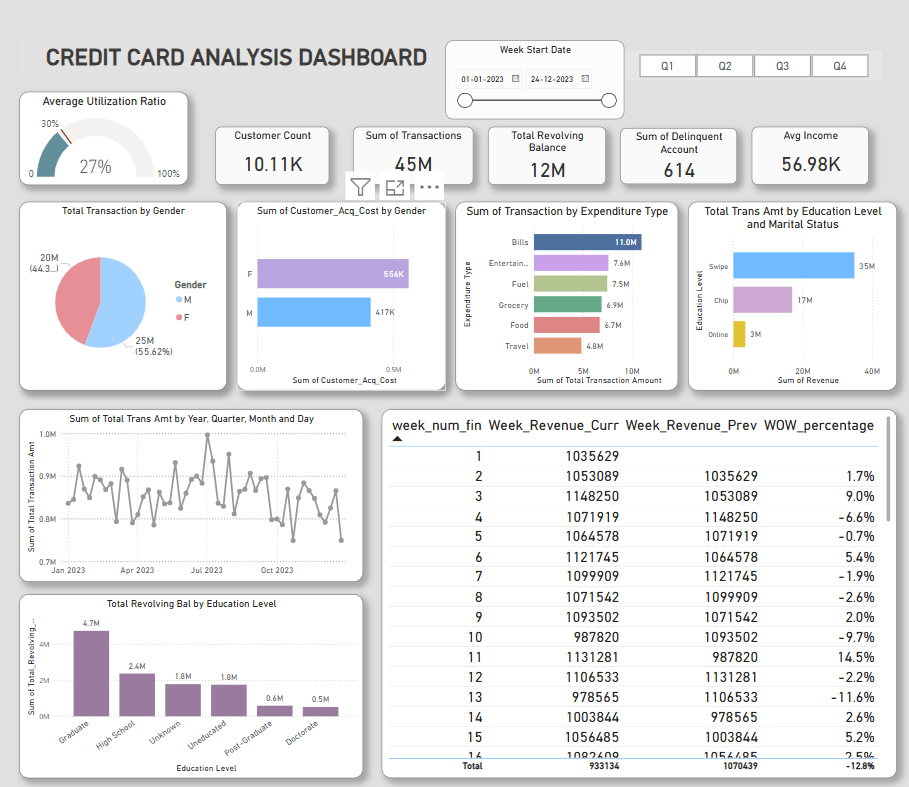

This screenshot's page, from the dashboard's own definition file:
{"tool":"powerbi","page":{"name":"Credit Card Analysis","canvas":[1550,1350],"ordinal":0},"visuals":[{"type":"pieChart","title":"Total Transaction by Gender","fields":{"Category":["ccdb cust_detail.Gender"],"Y":["Sum(ccdb cc_details.Total_Trans_Amt)"]},"box":[36,354,351.9,320.1],"z":0},{"type":"card","title":"Customer Count","fields":{"Values":["CountNonNull(ccdb cust_detail.Client_Num)"]},"box":[368.6,227.8,192.6,98.2],"z":1000},{"type":"card","title":"Sum of Transactions","fields":{"Values":["Sum(ccdb cc_details.Total_Trans_Amt)"]},"box":[602,227.8,203.8,98.2],"z":2000},{"type":"card","title":"Total Revolving Balance","fields":{"Values":["Sum(ccdb cc_details.Total_Revolving_Bal)"]},"box":[831.7,226,200.1,98.2],"z":3000},{"type":"card","title":"Sum of Delinquent Account","fields":{"Values":["Sum(ccdb cc_details.Delinquent_Acc)"]},"box":[1054.8,228.4,197.4,94.8],"z":4000},{"type":"slicer","fields":{"Values":["ccdb cc_details.Qtr"]},"box":[1062.6,96.8,437.4,50.3],"z":5000},{"type":"barChart","title":"Sum of Transaction by Expenditure Type","fields":{"Category":["ccdb cc_details.Exp_Type"],"Y":["Sum(ccdb cc_details.Total_Trans_Amt)"]},"box":[775.9,354,377.4,320.1],"z":6000},{"type":"columnChart","title":"Total Revolving Bal by Education Level","fields":{"Category":["ccdb cust_detail.Education_Level"],"Y":["Sum(ccdb cc_details.Total_Revolving_Bal)"]},"box":[36,1019.7,583,311.6],"z":7000},{"type":"clusteredBarChart","title":"Total Trans Amt by Education Level and Marital Status","fields":{"Category":["ccdb cc_details.Use_Chip"],"Y":["Sum(ccdb cc_details.Revenue)"]},"box":[1170.2,354,354,320.1],"z":8000},{"type":"lineChart","title":"Sum of Total Trans Amt by Year, Quarter, Month and Day","fields":{"Category":["ccdb cc_details.Week_Start_Date.Variation.Date Hierarchy.Year","ccdb cc_details.Week_Start_Date.Variation.Date Hierarchy.Quarter","ccdb cc_details.Week_Start_Date.Variation.Date Hierarchy.Month","ccdb cc_details.Week_Start_Date.Variation.Date Hierarchy.Day"],"Y":["Sum(ccdb cc_details.Total_Trans_Amt)"]},"box":[36,706,583,292.6],"z":9000},{"type":"textbox","box":[37,81.5,737.2,61.1],"z":10000},{"type":"gauge","title":"Average Utilization Ratio ","fields":{"Y":["Avg(ccdb cc_details.Avg_Utilization_Ratio)"],"MinValue":["ccdb cc_details.MinUtilization"],"MaxValue":["ccdb cc_details.MaxUtilization"],"TargetValue":["ccdb cc_details.TargetUtilization"]},"box":[36.8,168.4,286.5,158.7],"z":11000},{"type":"slicer","title":"Week Start Date","fields":{"Values":["ccdb cc_details.Week_Start_Date"]},"box":[759,80.6,303.2,133.6],"z":12000},{"type":"card","title":"Avg Income","fields":{"Values":["Avg(ccdb cust_detail.Income)"]},"box":[1278.1,226,198.2,98.2],"z":13000},{"type":"clusteredBarChart","fields":{"Category":["ccdb cust_detail.Gender"],"Y":["Sum(ccdb cc_details.Customer_Acq_Cost)"]},"box":[404.9,354,354,320.1],"z":14000},{"type":"tableEx","fields":{"Values":["ccdb cc_details.week_num_fin","ccdb cc_details.Week_Revenue","ccdb cc_details.Week_Revenue_Prev","ccdb cc_details.WOW_percentage"]},"box":[650.8,706,873.4,625.4],"z":15000}]}

Visuals, with their boxes in screenshot pixels (x1, y1, x2, y2), scaled from the page's 1550x1350 canvas onto the 909x787 screenshot:
"Total Transaction by Gender" pieChart: [21,206,227,393]
"Customer Count" card: [216,133,329,190]
"Sum of Transactions" card: [353,133,473,190]
"Total Revolving Balance" card: [488,132,605,189]
"Sum of Delinquent Account" card: [619,133,734,188]
slicer - ccdb cc_details.Qtr: [623,56,880,86]
"Sum of Transaction by Expenditure Type" barChart: [455,206,676,393]
"Total Revolving Bal by Education Level" columnChart: [21,594,363,776]
"Total Trans Amt by Education Level and Marital Status" clusteredBarChart: [686,206,894,393]
"Sum of Total Trans Amt by Year, Quarter, Month and Day" lineChart: [21,412,363,582]
textbox: [22,48,454,83]
"Average Utilization Ratio " gauge: [22,98,190,191]
"Week Start Date" slicer: [445,47,623,125]
"Avg Income" card: [750,132,866,189]
clusteredBarChart - ccdb cust_detail.Gender x Sum(ccdb cc_details.Customer_Acq_Cost): [237,206,445,393]
tableEx - ccdb cc_details.week_num_fin x ccdb cc_details.Week_Revenue: [382,412,894,776]
